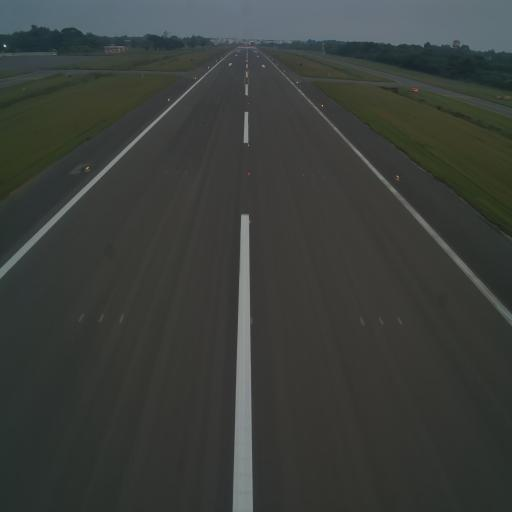off: (395, 313, 405, 330), (77, 310, 85, 328), (377, 313, 386, 329), (98, 311, 107, 325), (360, 315, 367, 329), (118, 310, 124, 325), (164, 168, 168, 176), (302, 171, 306, 179), (320, 173, 325, 179), (184, 169, 188, 176), (311, 173, 315, 179), (175, 170, 178, 176)
on: (394, 170, 402, 182), (248, 315, 255, 327), (83, 163, 90, 172), (320, 102, 326, 111), (247, 216, 252, 226), (247, 169, 251, 180), (246, 140, 250, 146), (167, 96, 170, 103), (247, 123, 250, 129), (247, 100, 249, 106), (247, 112, 249, 116)
